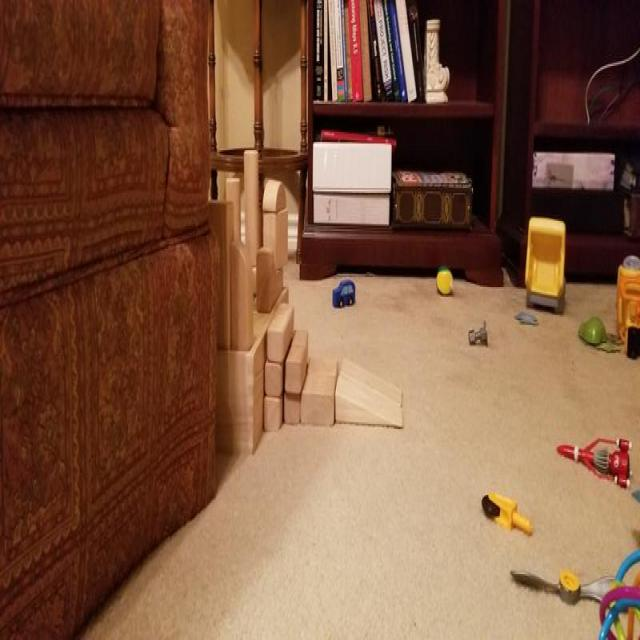toy: (512, 562, 626, 612), (546, 433, 632, 491), (526, 220, 568, 315), (483, 482, 535, 544), (615, 254, 640, 360), (577, 312, 610, 350), (329, 282, 360, 308), (512, 305, 541, 329), (467, 320, 488, 350), (435, 265, 454, 296)
